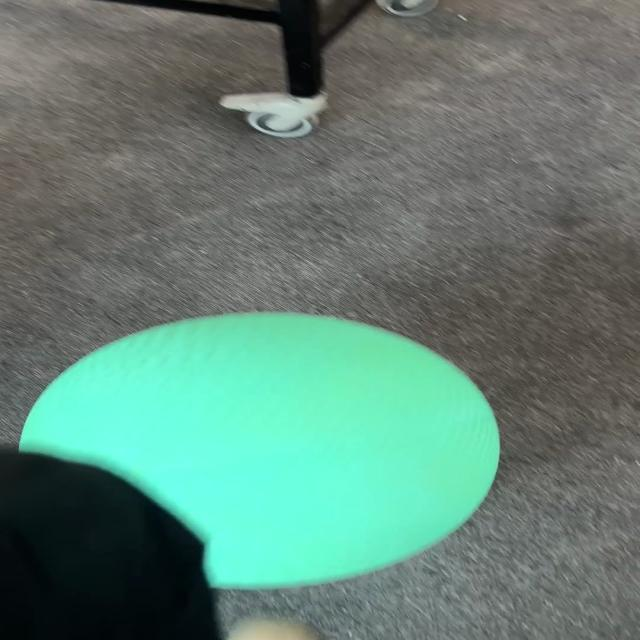Algae: (16, 310, 502, 590)
